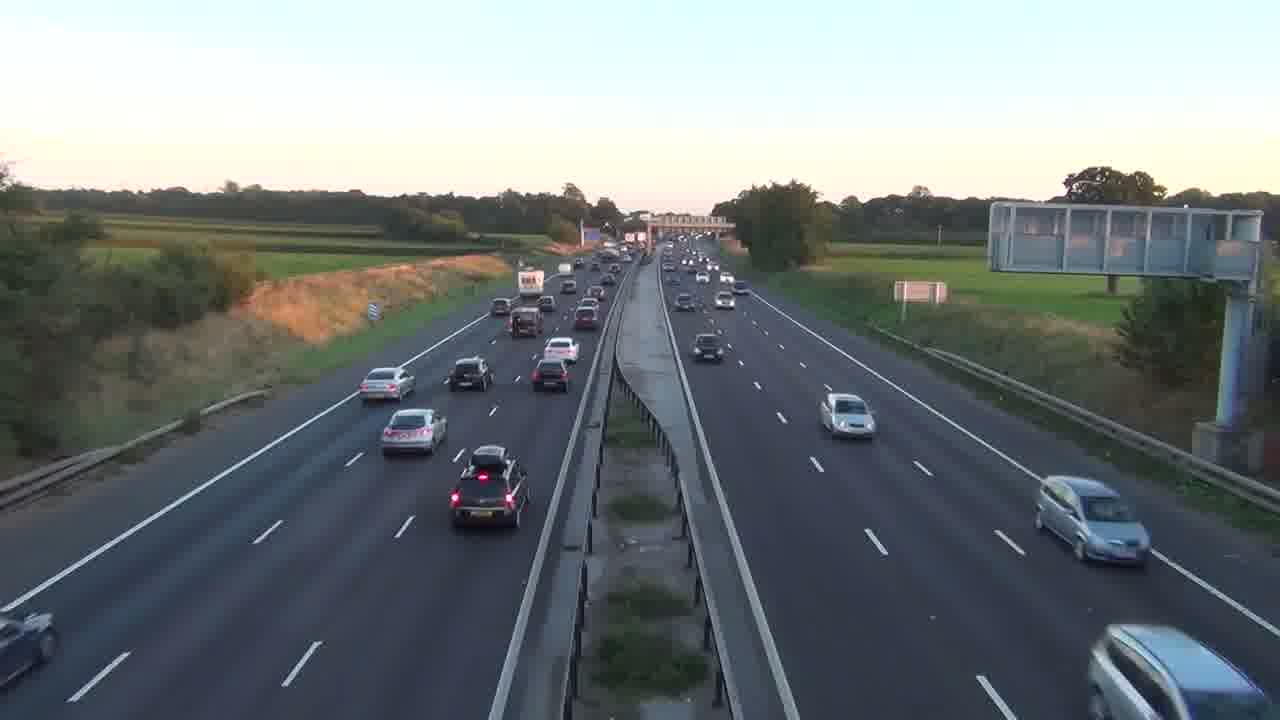car: (1086, 622, 1270, 719), (1034, 474, 1152, 567), (448, 463, 531, 530), (380, 407, 447, 456), (818, 390, 878, 440), (358, 366, 415, 405), (444, 355, 493, 391), (530, 358, 570, 393), (691, 332, 726, 363), (544, 336, 580, 365)
truck: (1034, 474, 1152, 567)
